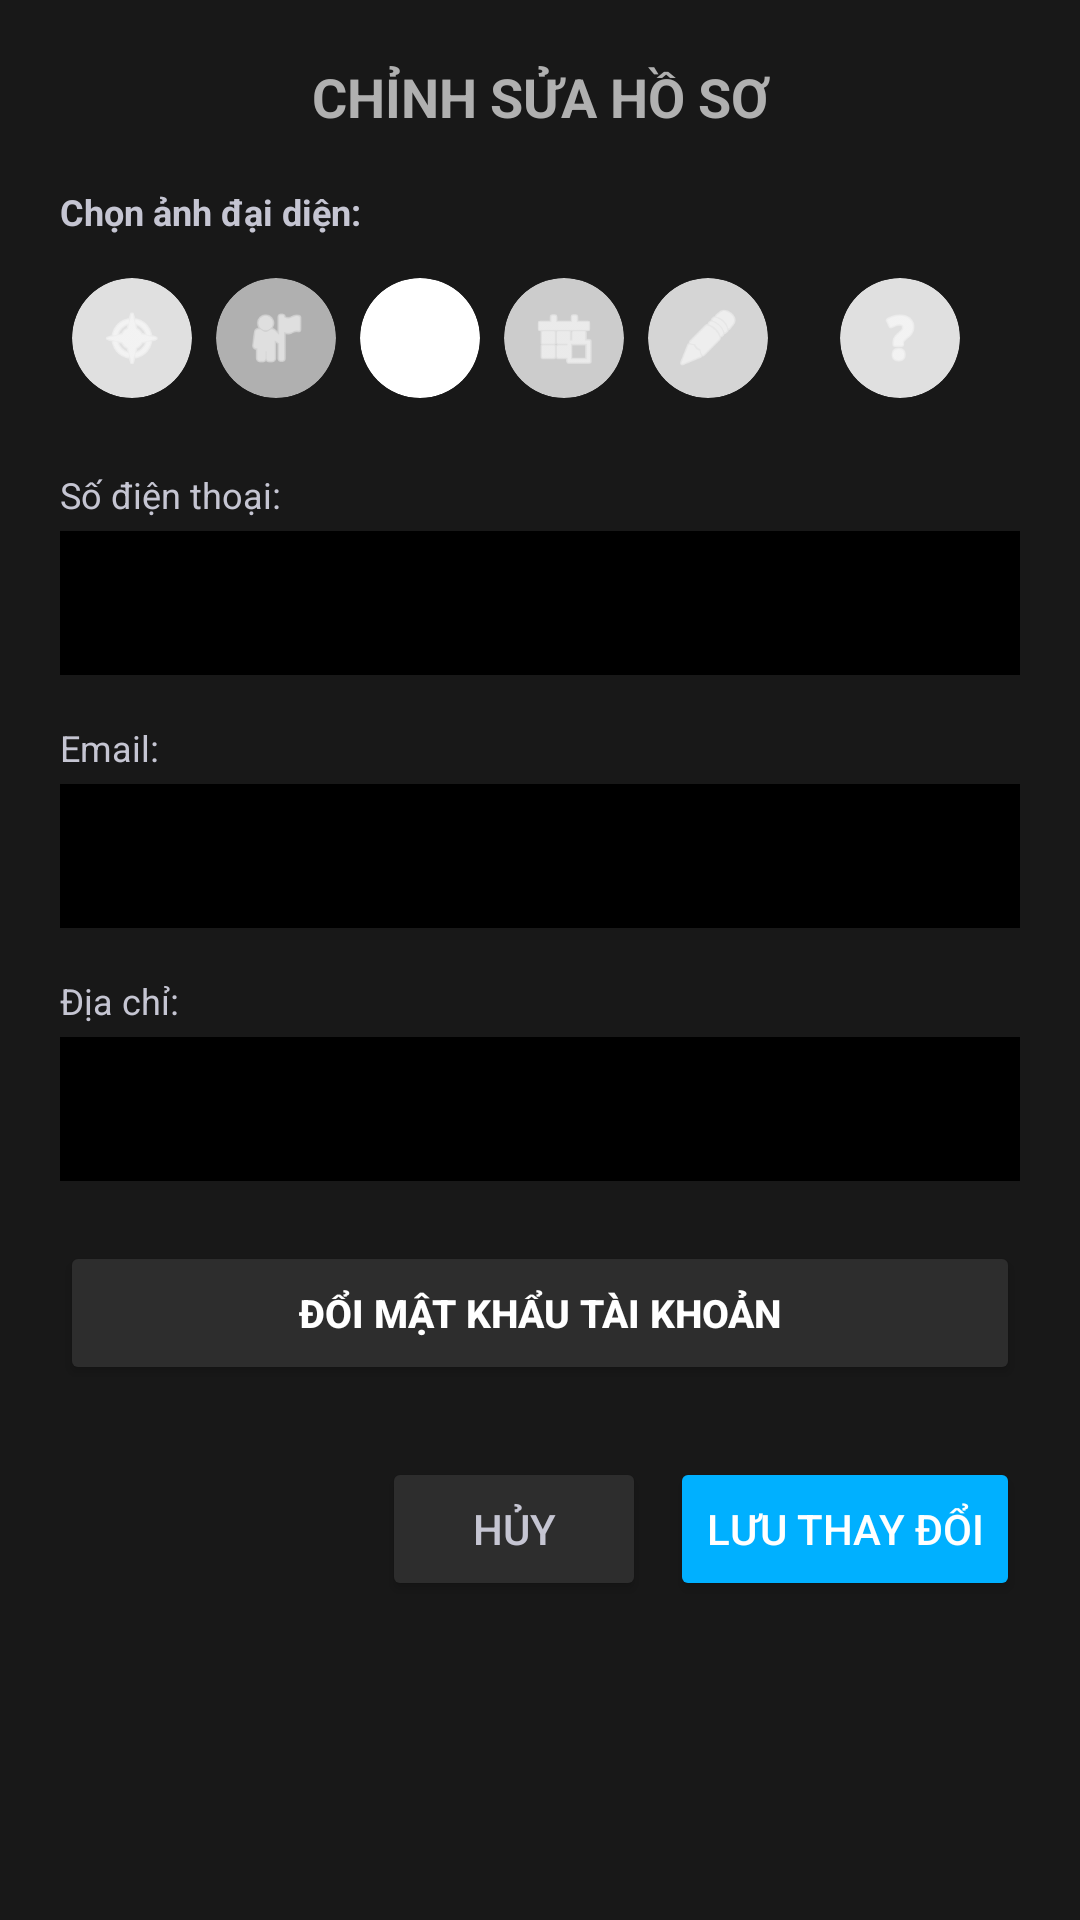

Named icons in this screenshot (1080w x 1920h) and their centers, [x,y]:
edit: [708,337]
today: [564,339]
